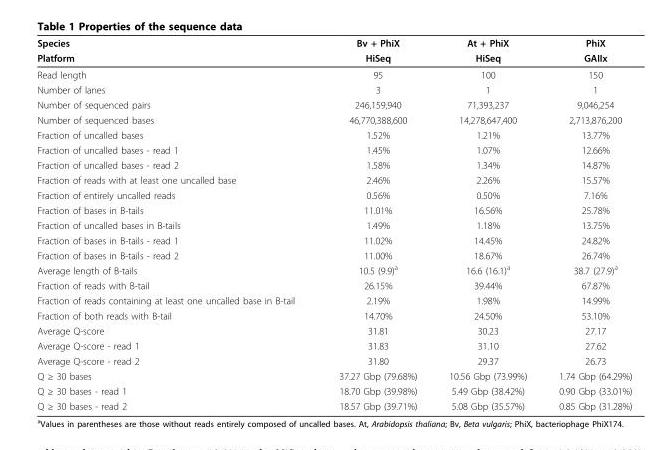table: (36, 36, 631, 411)
table column: (36, 36, 316, 411), (316, 36, 432, 411), (432, 36, 542, 411), (542, 36, 631, 411)
table column header: (36, 36, 631, 66)
table row: (36, 50, 631, 66), (36, 96, 631, 112), (36, 261, 631, 277), (36, 337, 631, 353), (36, 66, 631, 81), (36, 81, 631, 96), (36, 112, 631, 127), (36, 127, 631, 142), (36, 142, 631, 157), (36, 157, 631, 172), (36, 172, 631, 187), (36, 187, 631, 202), (36, 202, 631, 217), (36, 217, 631, 232), (36, 232, 631, 247), (36, 277, 631, 292), (36, 292, 631, 307), (36, 307, 631, 322), (36, 322, 631, 337), (36, 353, 631, 368), (36, 368, 631, 383), (36, 383, 631, 398), (36, 36, 631, 50), (36, 247, 631, 261), (36, 398, 631, 411)
table spanning cell: (36, 36, 316, 66), (316, 36, 432, 66), (432, 36, 542, 66), (542, 36, 631, 66)
